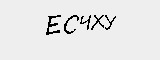О: (81, 23, 103, 40), (11, 22, 31, 38)
С: (102, 21, 119, 38)
Ш: (32, 23, 61, 43)
Щ: (119, 20, 147, 39)
Ғ: (61, 26, 81, 42)
